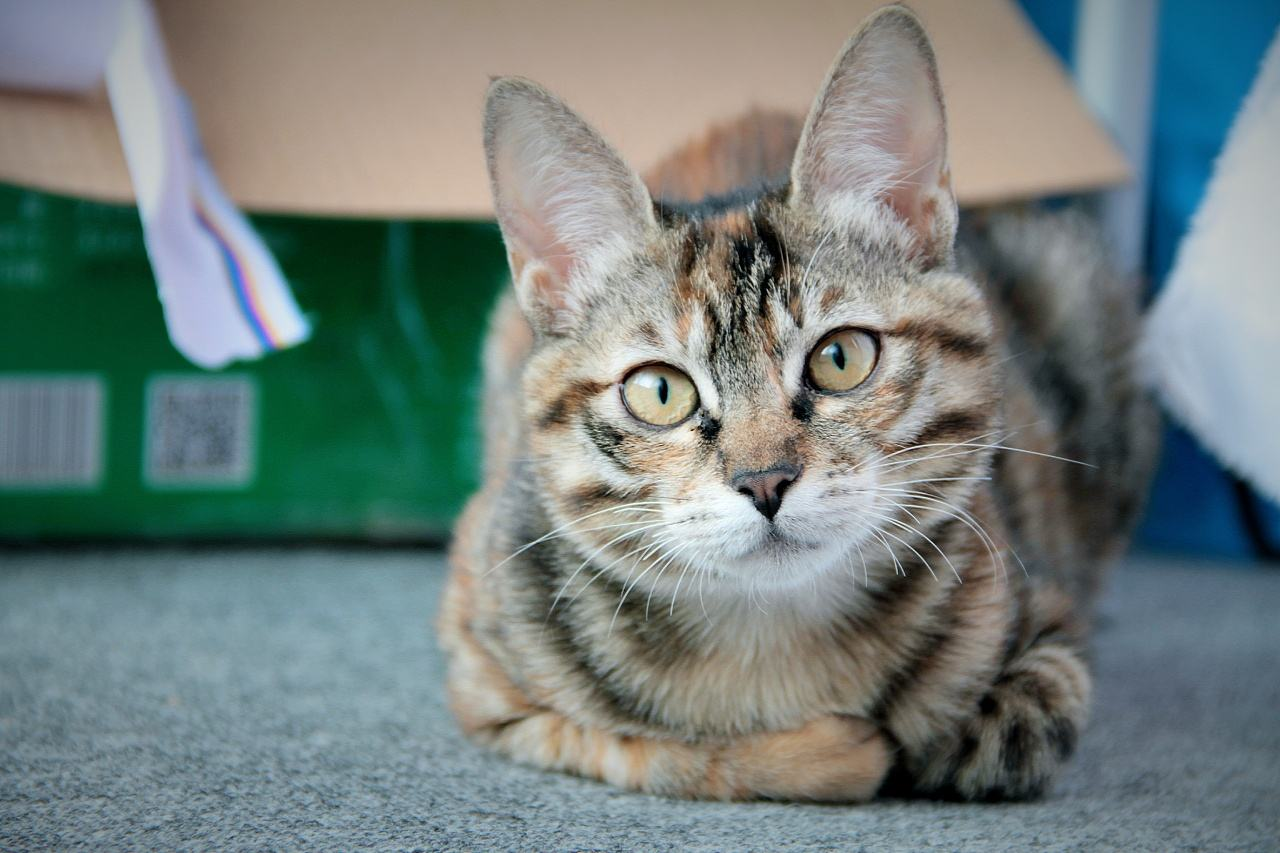cat: (439, 2, 1160, 803)
